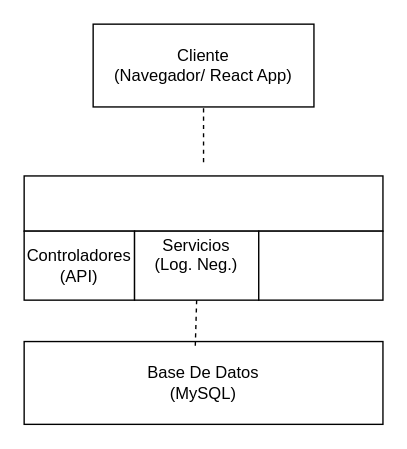
This 407x449 diagram has some shape labels left out. Each missing label, with the box of its shape:
Backend (Spring Boot): (23, 175, 383, 231)
Repos. (JPA): (257, 230, 383, 300)
